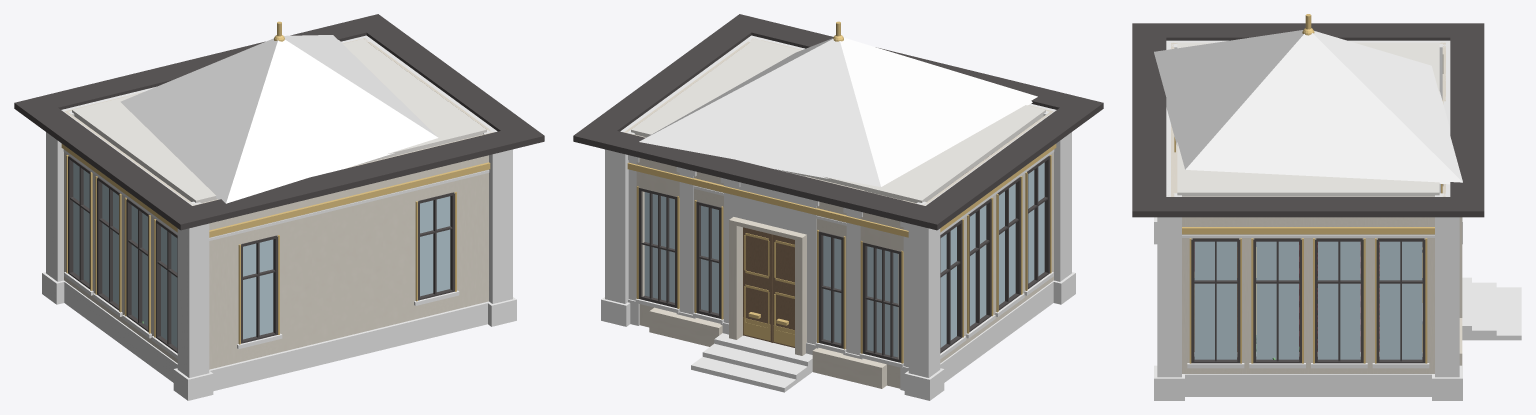
Rendered from gedung-aula-v1d.glb.
The picture shows the model from 3 angles, left to right: view 1: azimuth 30°, elevation 25°; view 2: azimuth 150°, elevation 25°; view 3: azimuth 270°, elevation 25°; orthographic projection. The views are drawn at different scales.
Visible parts, largest first — view 1: Merged_Plester, Atap, Merged_LogamGelap, Merged_PlesterGelap, Merged_Batu, Merged_Kaca, Merged_Putih, Merged_Emas; view 2: Merged_LogamGelap, Atap, Merged_PlesterGelap, Merged_Plester, Merged_Kaca, Merged_Batu, Merged_Putih, Merged_Emas, PintuUtama_DaunR, PintuUtama_DaunL; view 3: Atap, Merged_LogamGelap, Merged_Kaca, Merged_Batu, Merged_Plester, Merged_PlesterGelap, Merged_Putih, Merged_Emas, Merged_Beludru.
Part boxes in pixels (x1=…): Merged_Plester: x1=64, y1=38, x2=493, y2=369; Atap: x1=120, y1=35, x2=438, y2=203; Merged_LogamGelap: x1=14, y1=14, x2=544, y2=353; Merged_PlesterGelap: x1=46, y1=35, x2=512, y2=377; Merged_Batu: x1=42, y1=272, x2=516, y2=400; Merged_Kaca: x1=73, y1=162, x2=450, y2=347; Merged_Putih: x1=72, y1=39, x2=486, y2=203; Merged_Emas: x1=61, y1=21, x2=490, y2=344; Merged_LogamGelap: x1=573, y1=14, x2=1103, y2=362; Atap: x1=639, y1=37, x2=1037, y2=186; Merged_PlesterGelap: x1=605, y1=35, x2=1071, y2=377; Merged_Plester: x1=624, y1=38, x2=1053, y2=388; Merged_Kaca: x1=644, y1=162, x2=1044, y2=357; Merged_Batu: x1=601, y1=272, x2=1075, y2=400; Merged_Putih: x1=631, y1=39, x2=1045, y2=203; Merged_Emas: x1=627, y1=21, x2=1056, y2=363; PintuUtama_DaunR: x1=743, y1=227, x2=770, y2=342; PintuUtama_DaunL: x1=773, y1=234, x2=794, y2=347; Atap: x1=1154, y1=30, x2=1462, y2=184; Merged_LogamGelap: x1=1132, y1=23, x2=1484, y2=363; Merged_Kaca: x1=1194, y1=241, x2=1422, y2=359; Merged_Batu: x1=1154, y1=217, x2=1521, y2=400; Merged_Plester: x1=1168, y1=42, x2=1462, y2=373; Merged_PlesterGelap: x1=1157, y1=40, x2=1459, y2=377; Merged_Putih: x1=1177, y1=42, x2=1439, y2=356; Merged_Emas: x1=1174, y1=14, x2=1442, y2=363; Merged_Beludru: x1=1194, y1=242, x2=1379, y2=351.
Bounding box in the file's own units: 14.4 × 10.86 × 12.6.
Materials: 17 (4 with a texture image).
